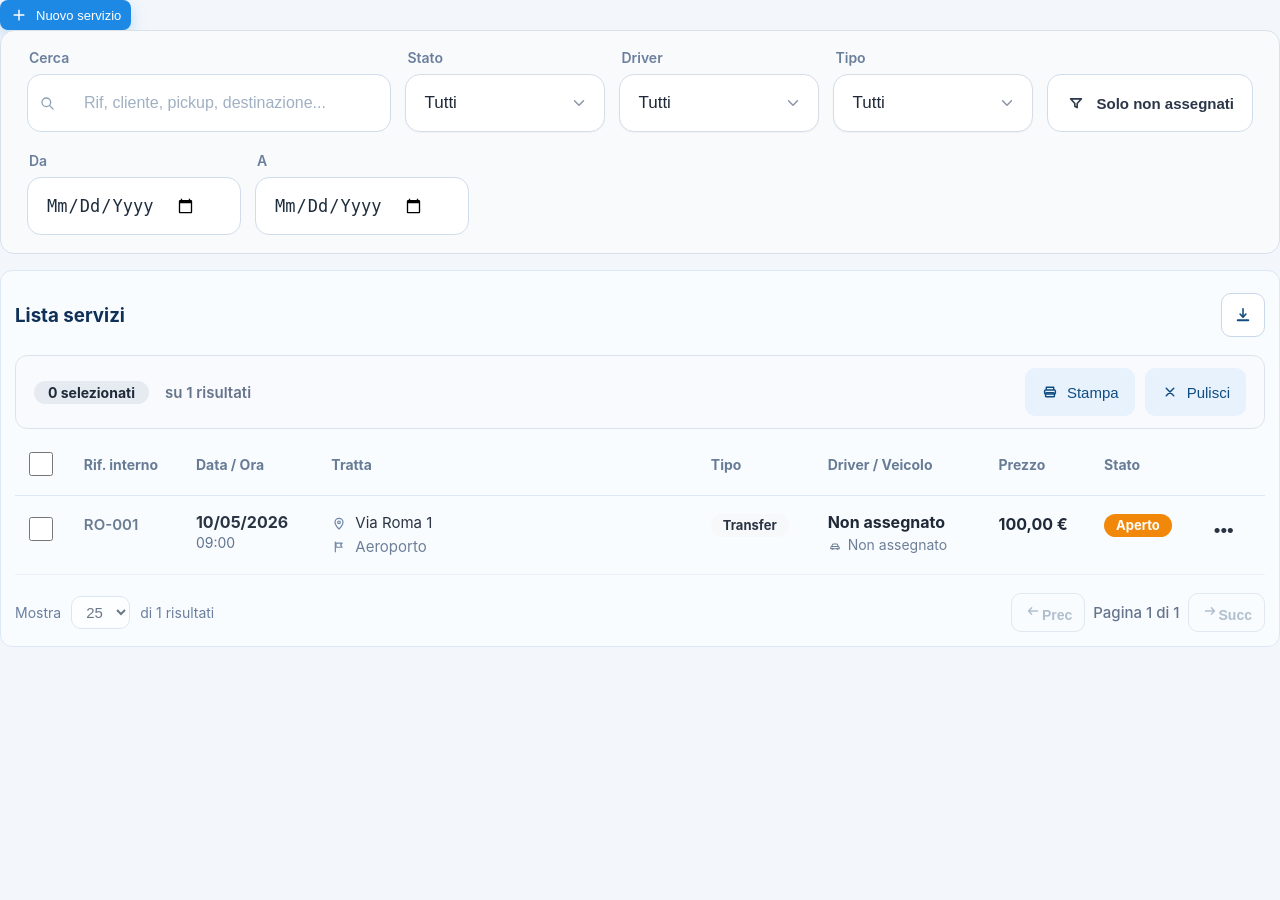
Test case: ServicesPanel – checkbox "Ricevuto da partner" › in modifica INTERNAL: selezionare la checkbox mostra il selettore partner
The image size is (1280, 900).
Click the button named "azioni servizio 1".
click(1224, 530)  # box [1208,514,1240,546]
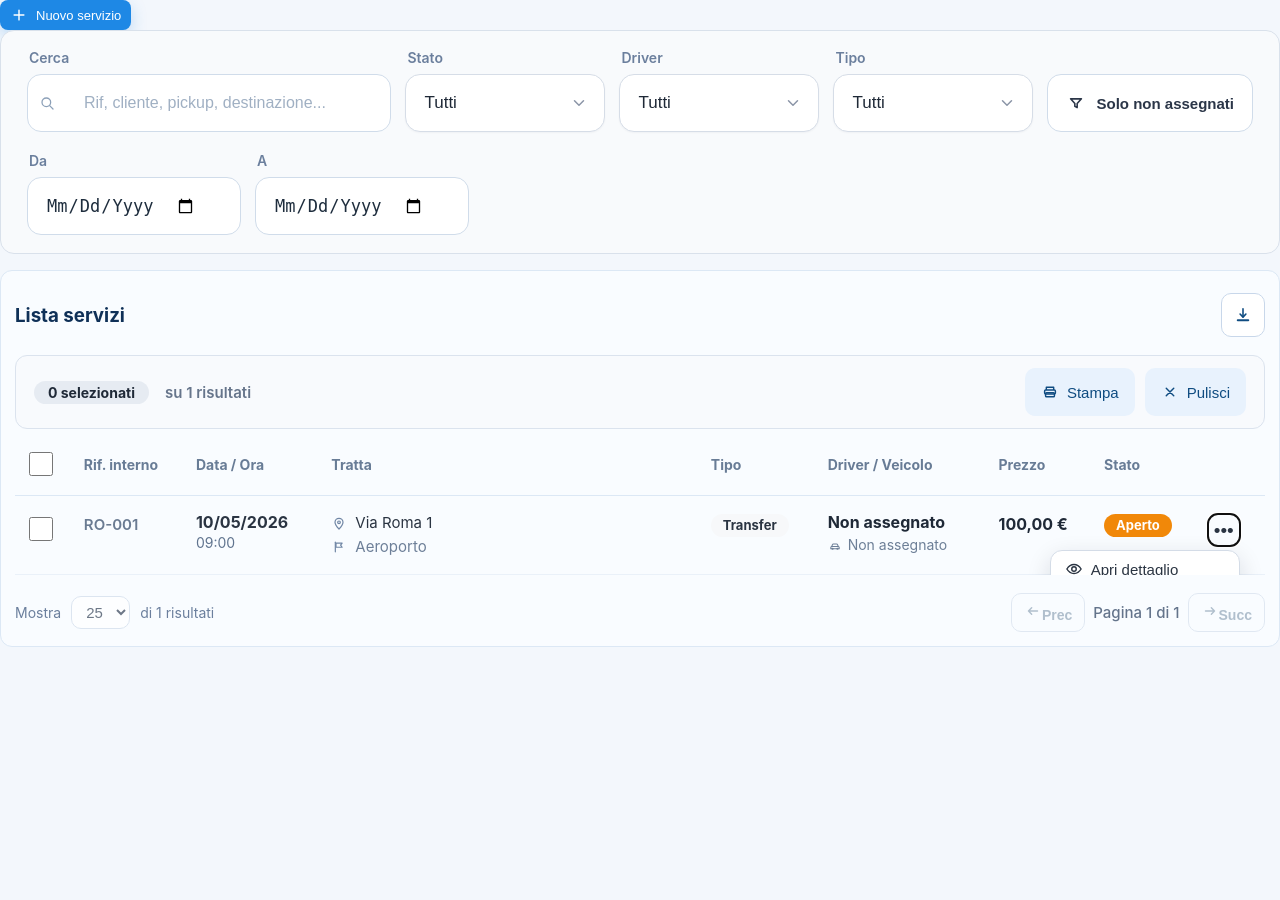
Click the button "Apri dettaglio".
click(1145, 569)  # box [1051,551,1239,587]
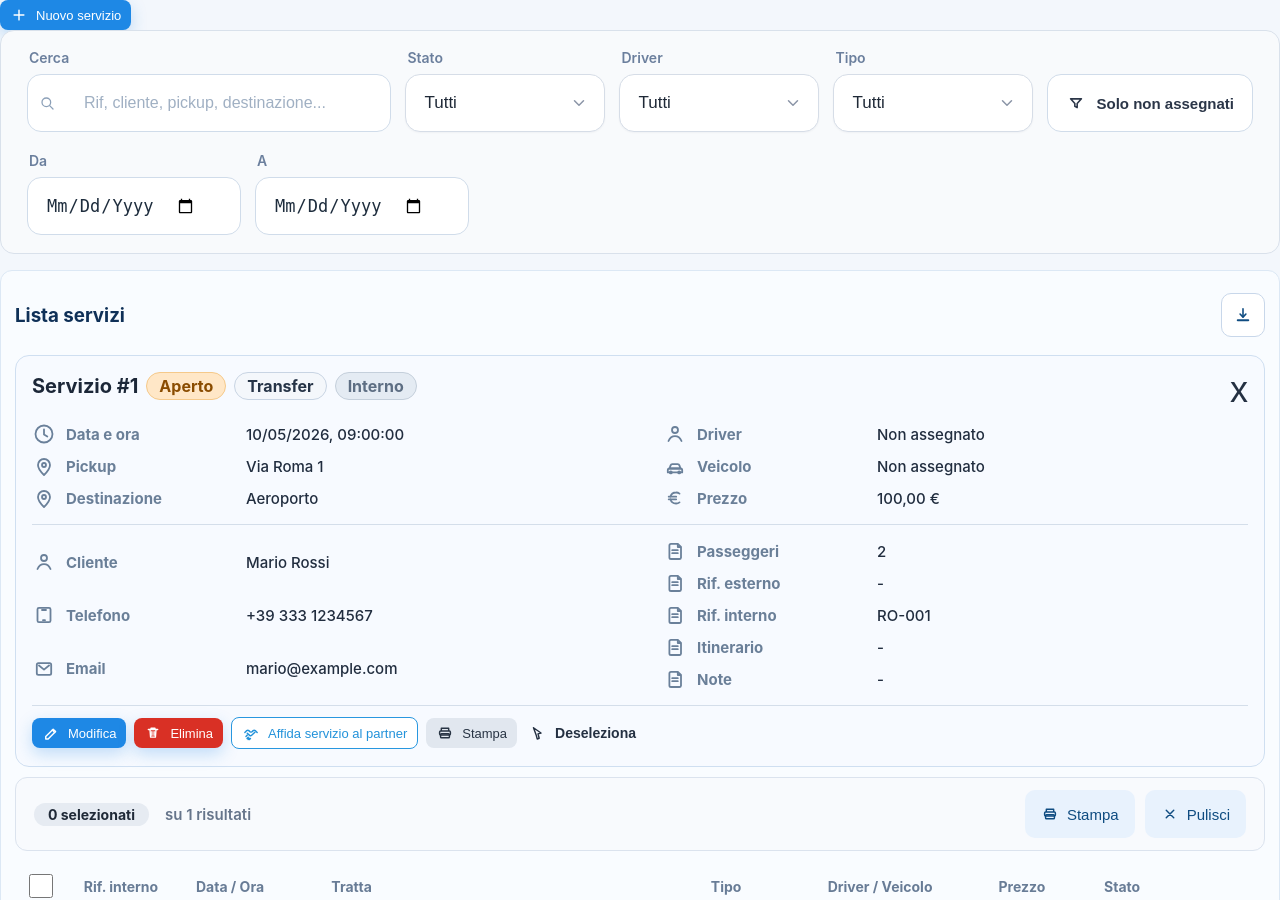
Click the button "Modifica".
click(79, 733)  # box [32,718,126,748]
(page scrolled)
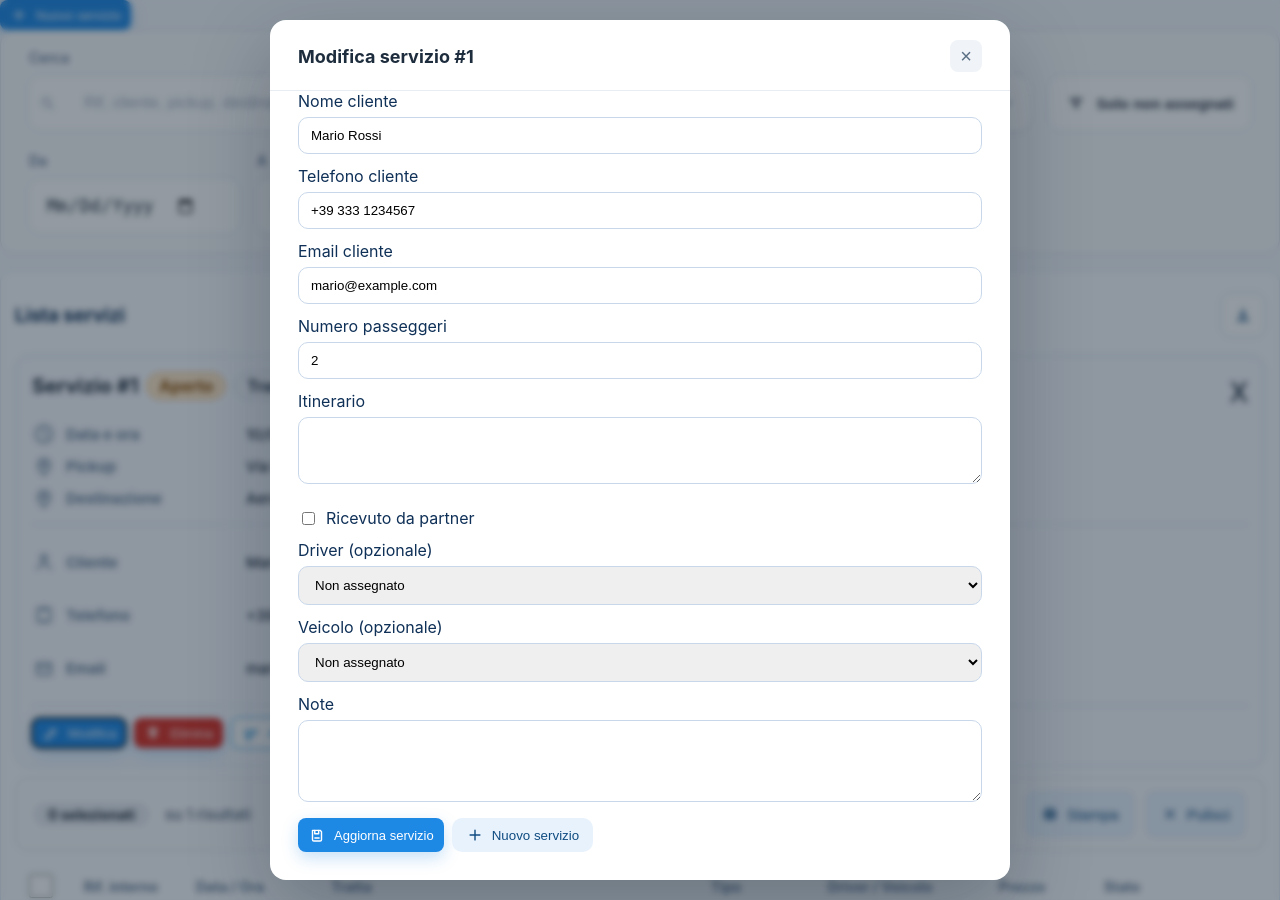
Click the checkbox labelled "Ricevuto da partner".
click(308, 518)  # box [302,512,315,525]
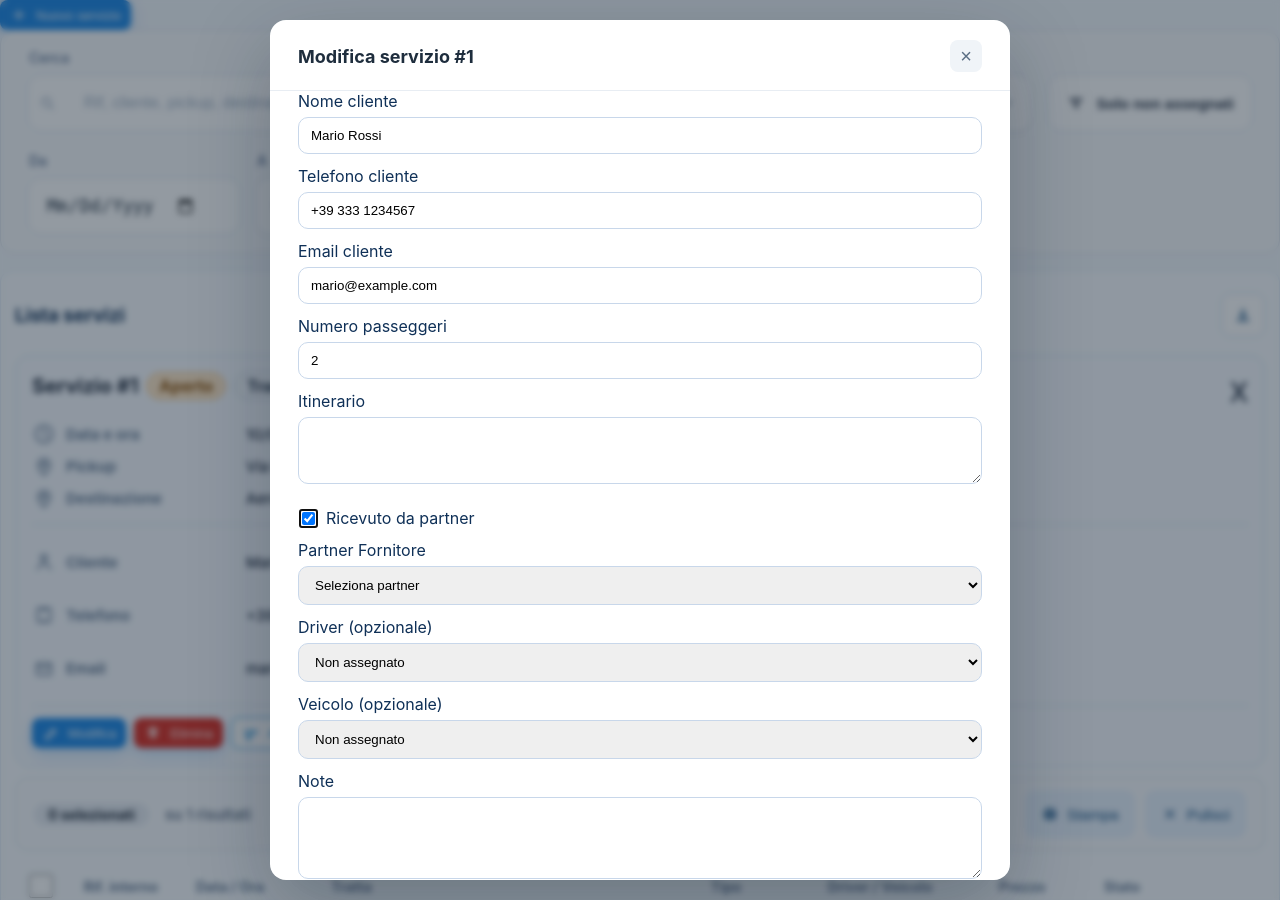
Expected: the checkbox labelled "Ricevuto da partner" is checked, [302,512,315,525]
Expected: the dropdown labelled "Partner Fornitore" is shown, [298,566,982,605]
